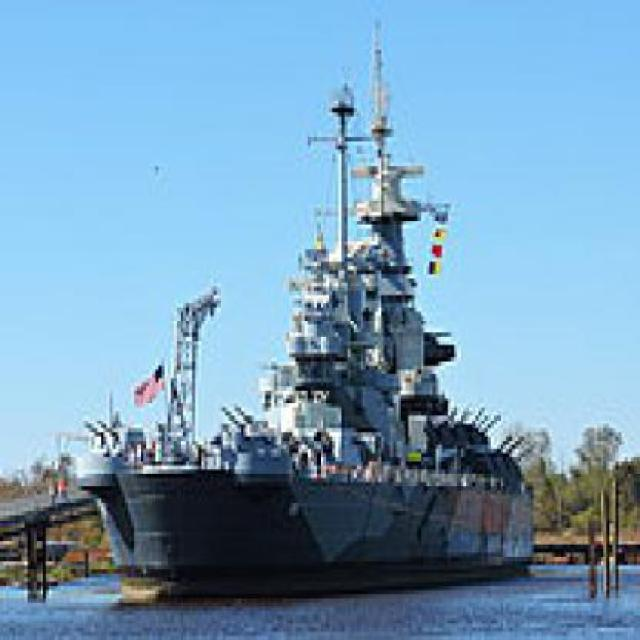warship2: (53, 34, 547, 620)
